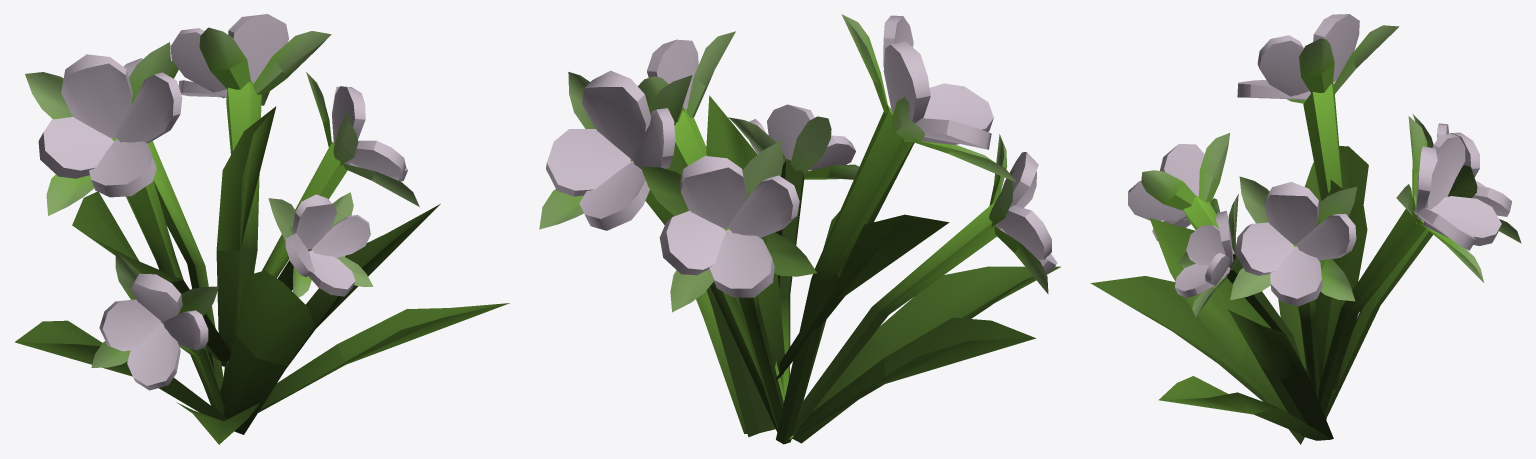
Rendered from Flowers_Type2.fbx.
3 renders of one model, left to right at view 1: azimuth 30°, elevation 25°; view 2: azimuth 150°, elevation 25°; view 3: azimuth 270°, elevation 25°, orthographic. The views are drawn at different scales.
Parts seen in each view (by area): view 1: Flowers_Type2; view 2: Flowers_Type2; view 3: Flowers_Type2.
Boxes of the visible parts, box(x1,y1,x2,y2) form: Flowers_Type2: box(15, 14, 509, 444); Flowers_Type2: box(539, 14, 1060, 444); Flowers_Type2: box(1090, 14, 1521, 444).
Size of the model in its own units: 122 by 112 by 116.
